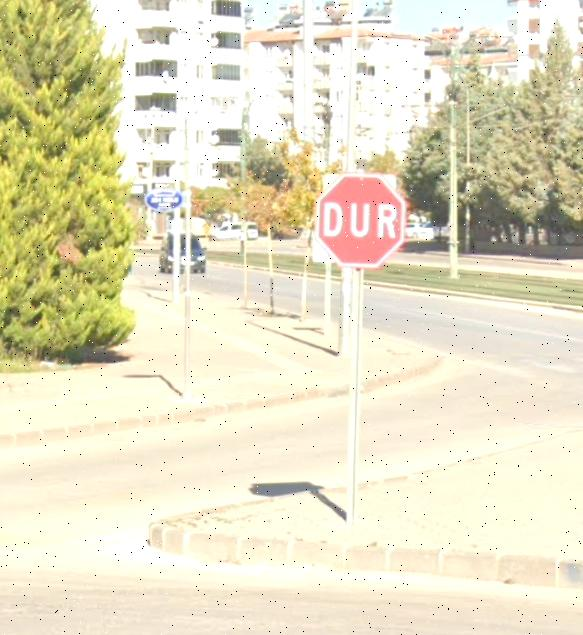stop: (320, 173, 407, 268)
